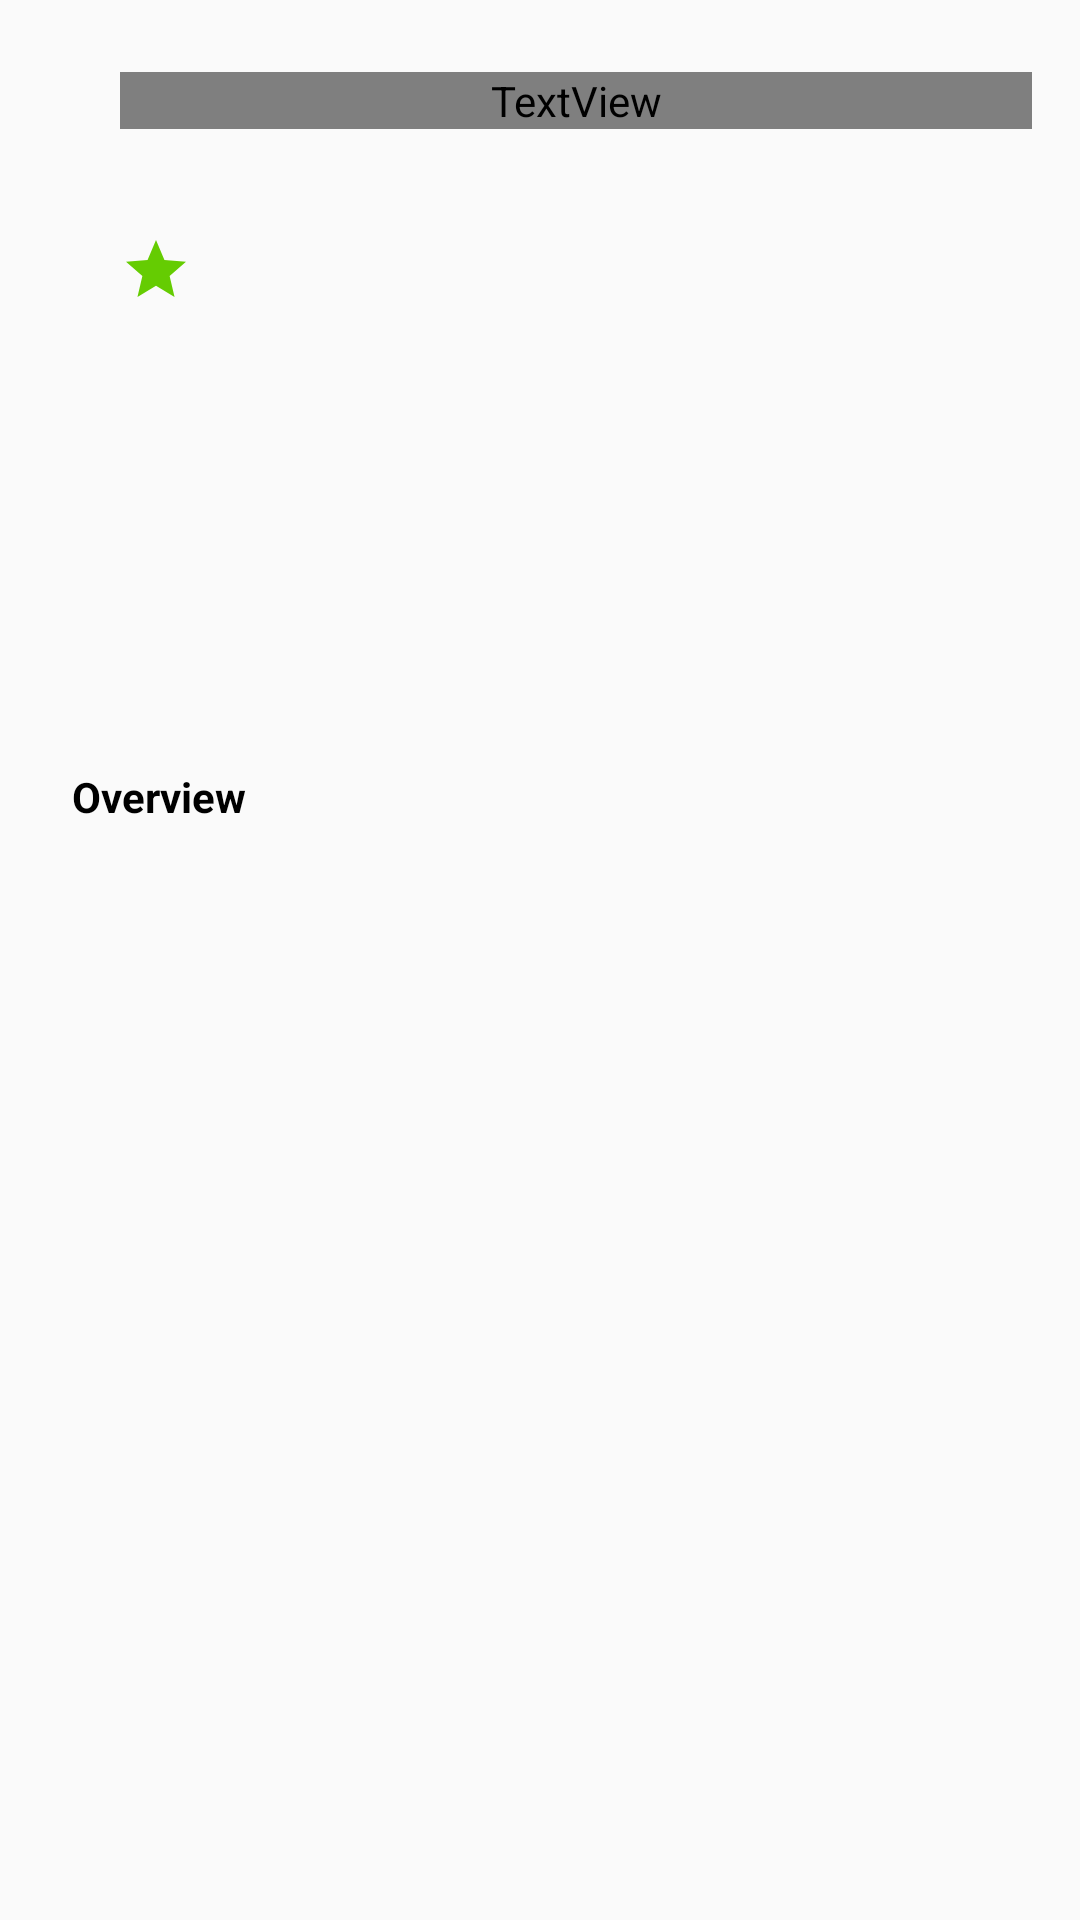

Screen size 1080*1920. Icon name, then its center in pixels as point (x, y):
star: point (156, 268)
